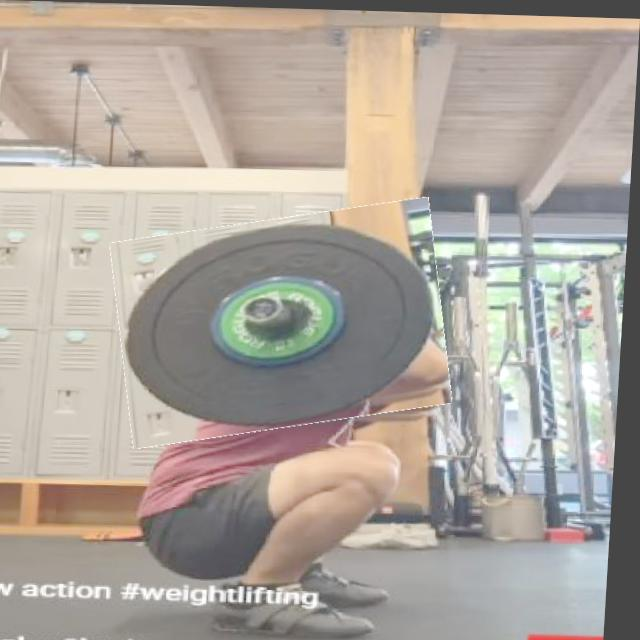barbell: (113, 201, 460, 443)
